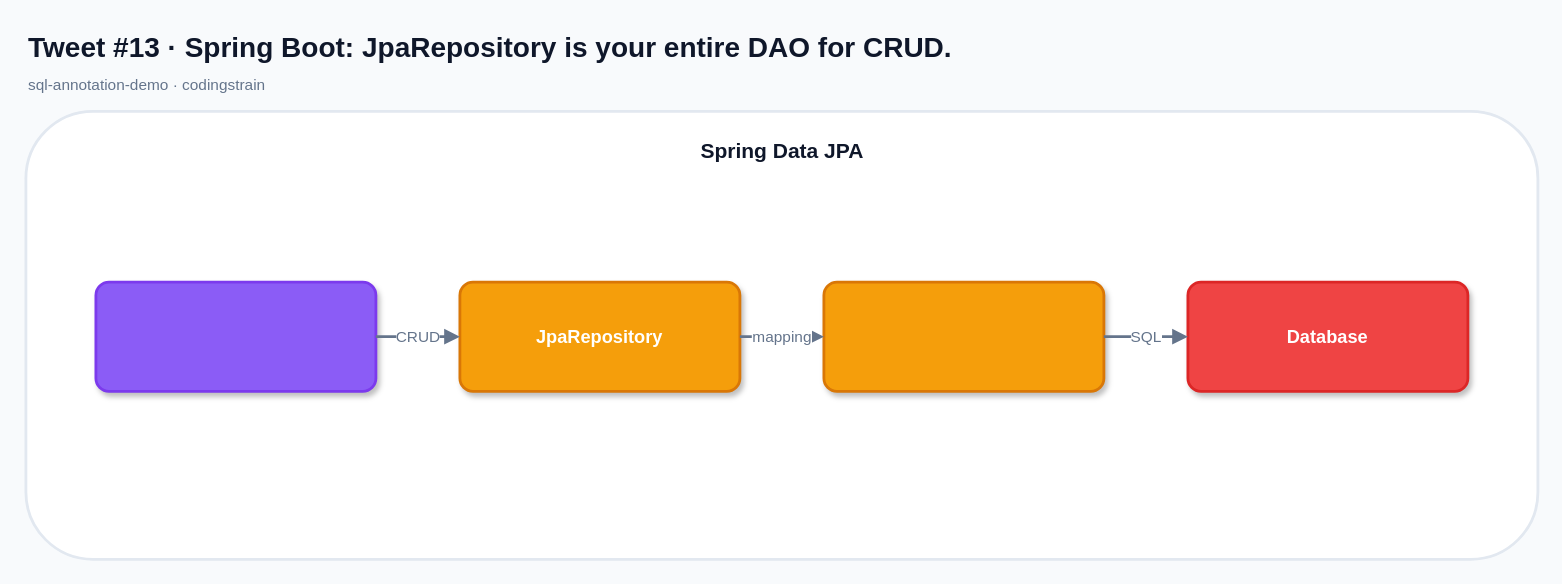
The diagram is 1562 pixels wide and 584 high, and some of its shapes have lost their labels. Here are the shapes that lost their labels. From the top down, the centre of each, then its label:
point (236, 338): Service / Test
point (964, 338): Entity
